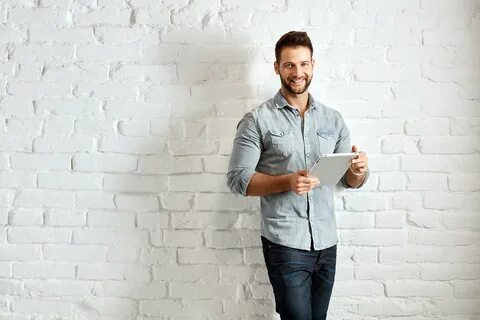awake: (226, 29, 370, 320)
